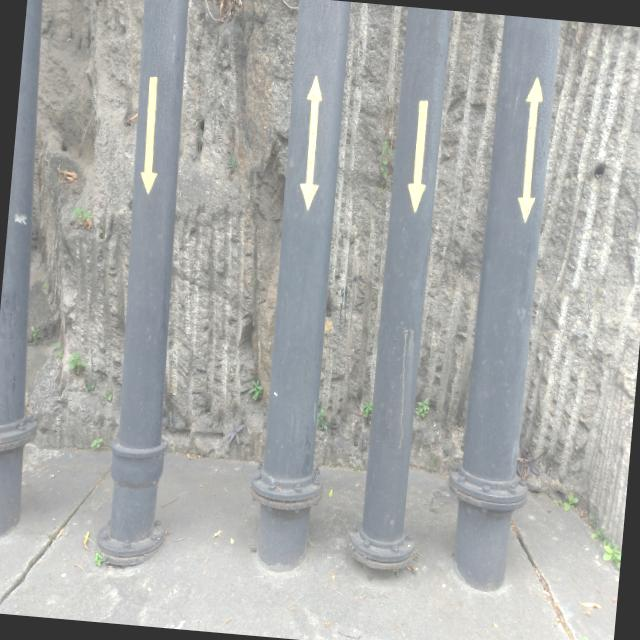gas: (452, 15, 560, 580), (257, 0, 353, 564), (359, 7, 452, 573), (104, 0, 192, 555)
